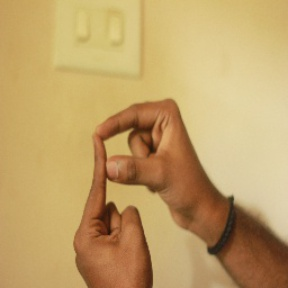P: (63, 95, 196, 264)
